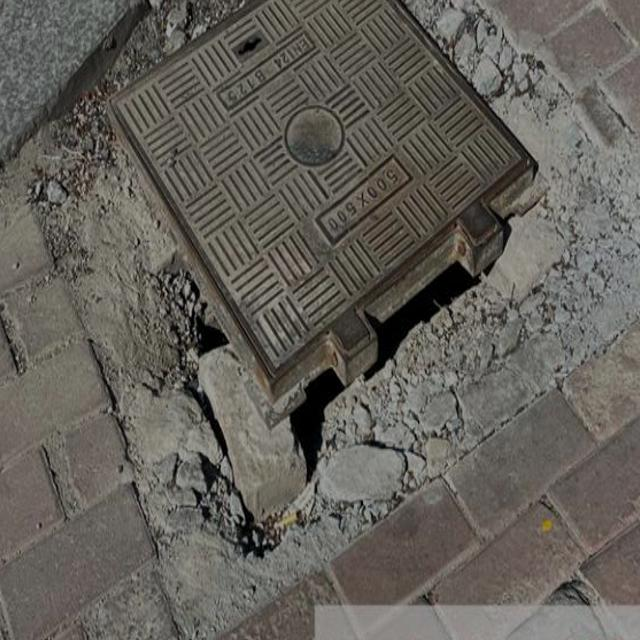circle: (32, 0, 640, 573)
